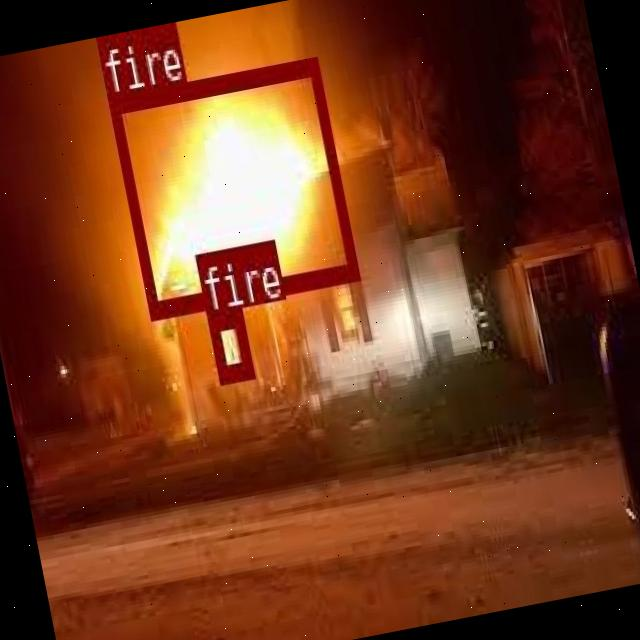fire: (106, 56, 357, 318), (204, 306, 252, 382)
